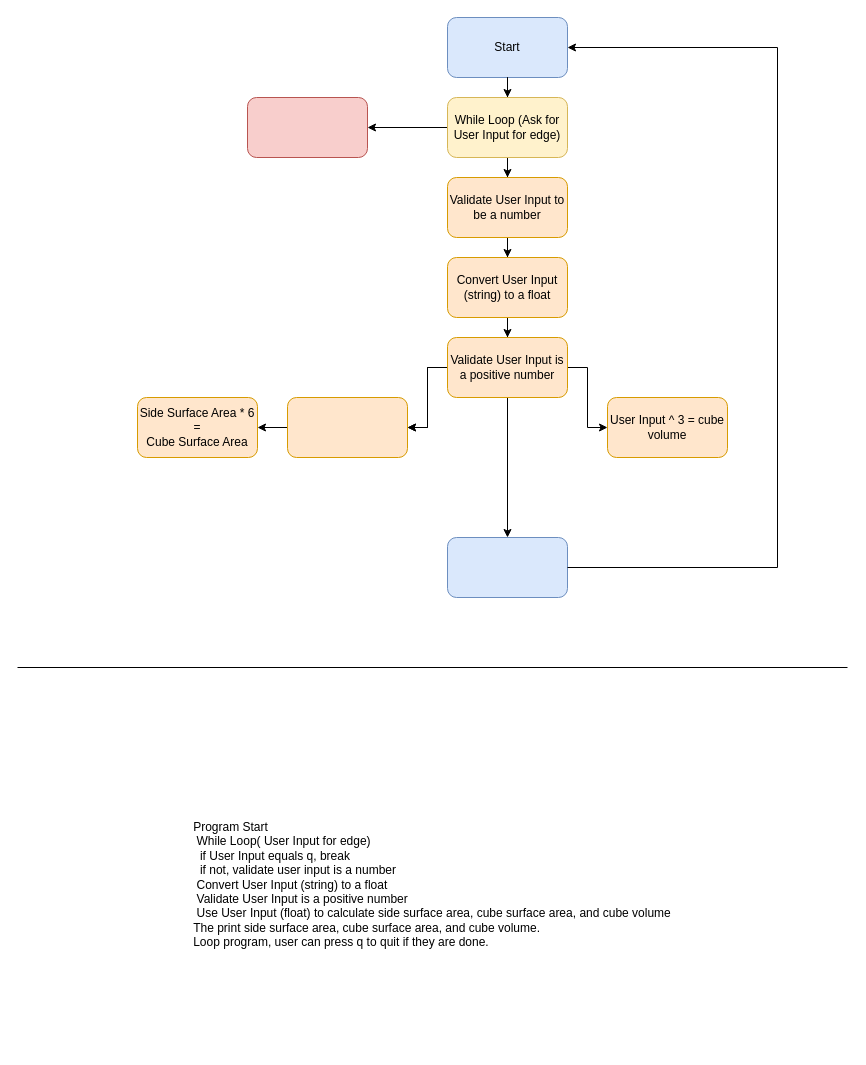
Image size: 866x1065. Some labels were removed from this diagram. Each missing label, with the centre of its shape:
"If User Input equals q, break" goes at point 307,127.
"Loop" goes at point 507,567.
"User Input ^ 2= side surface area" goes at point 347,427.
